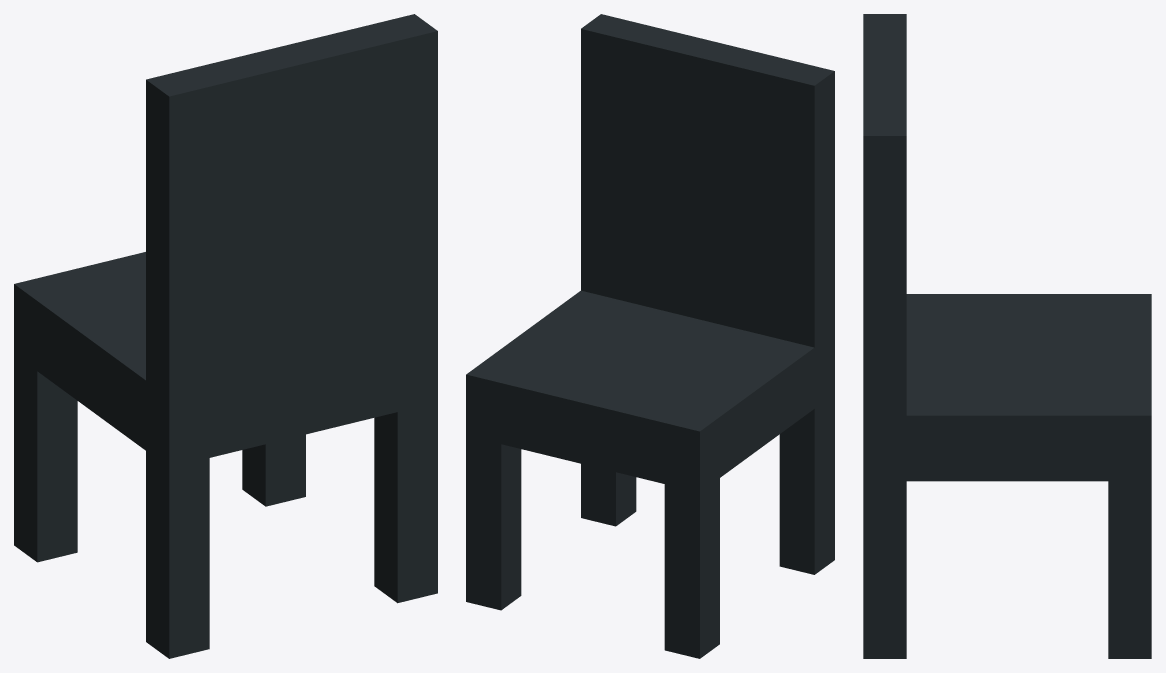
The model's file is chair1.fbx.
3 renders of one model, left to right at view 1: azimuth 30°, elevation 25°; view 2: azimuth 150°, elevation 25°; view 3: azimuth 270°, elevation 25°, orthographic. The views are drawn at different scales.
Visible parts, largest first — view 1: Cube; view 2: Cube; view 3: Cube.
Part boxes in pixels (x1=…): Cube: x1=14, y1=14, x2=437, y2=658; Cube: x1=466, y1=14, x2=834, y2=658; Cube: x1=863, y1=14, x2=1151, y2=658.
Size of the model in its own units: 200 by 400 by 200.
